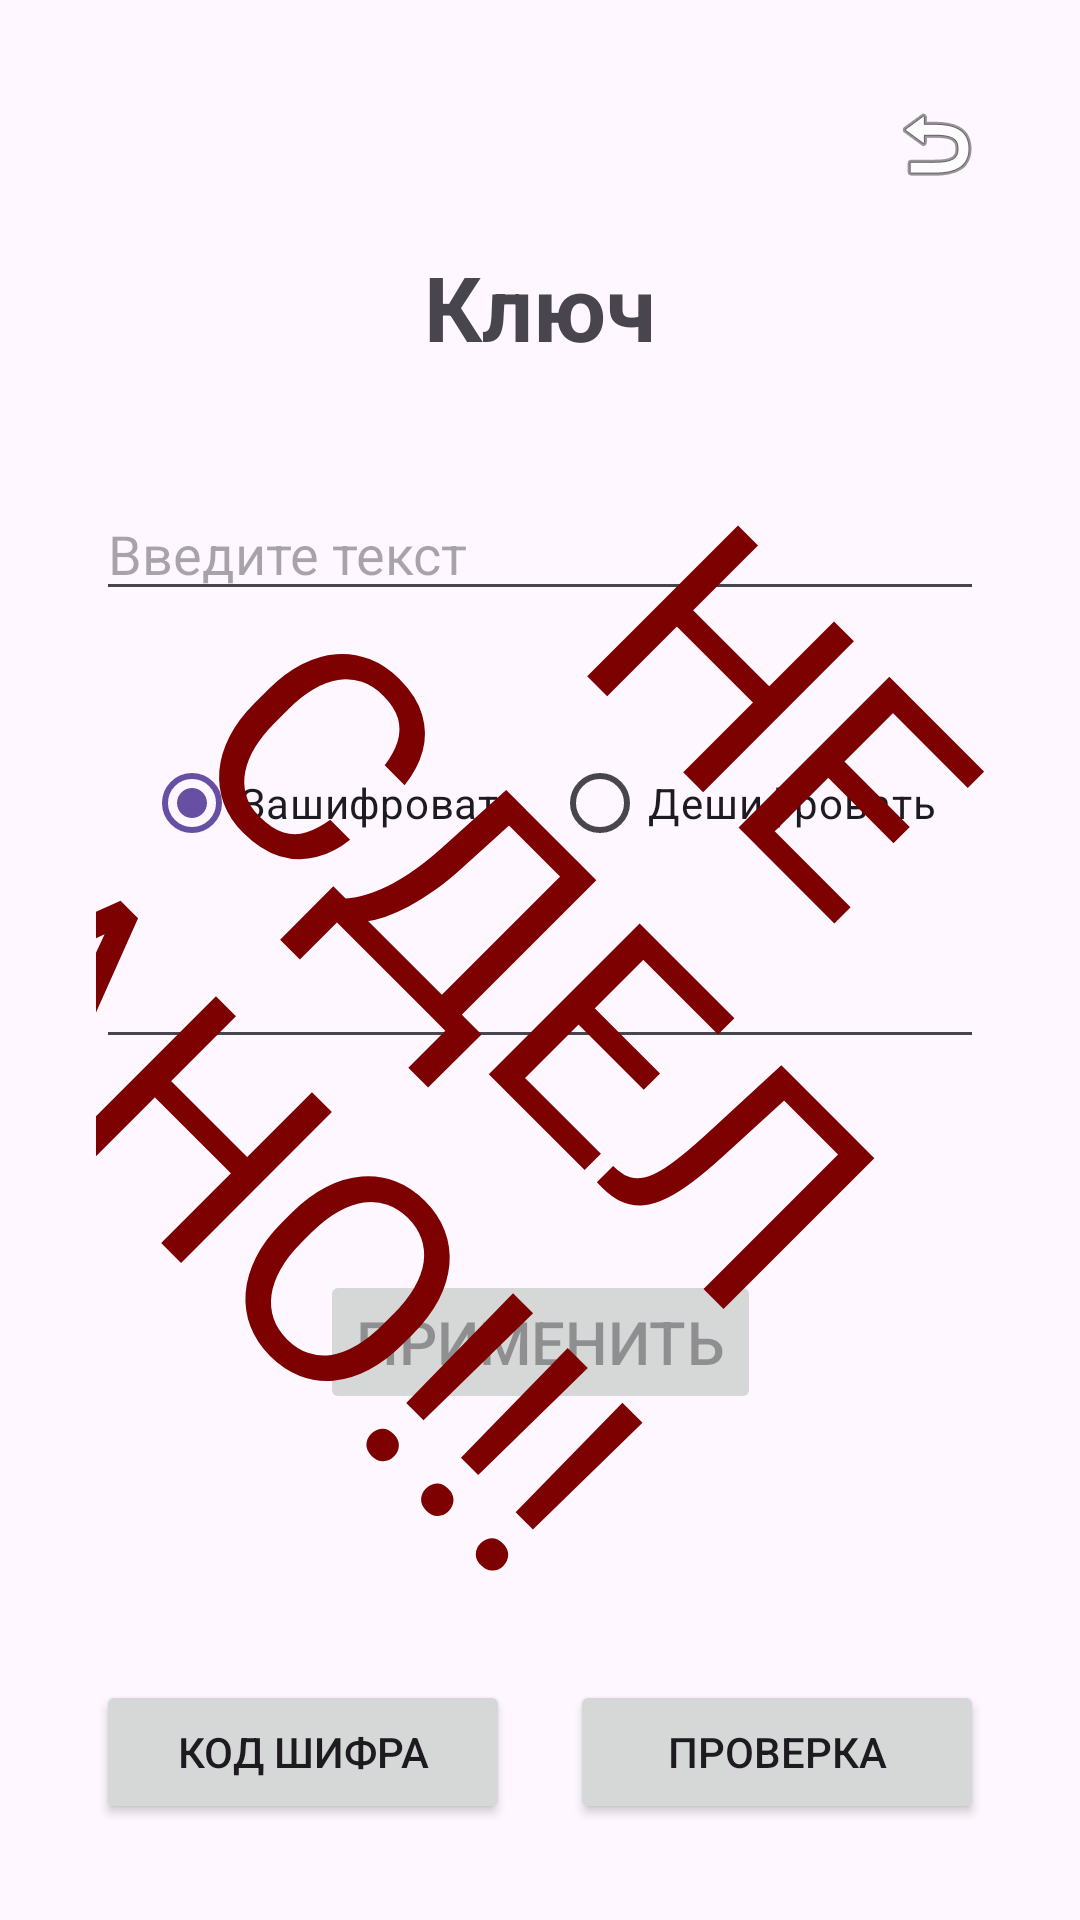

Icon click points for this 1080 x 1920 phone screenshot, format (x=x, y=y):
revert: (x=937, y=144)
